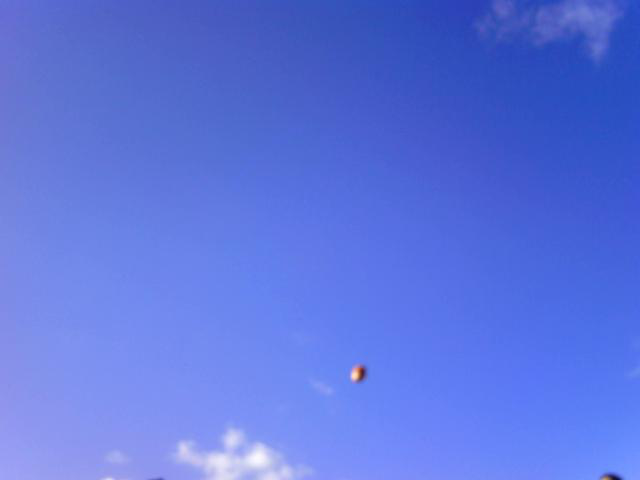football: (349, 359, 370, 387)
